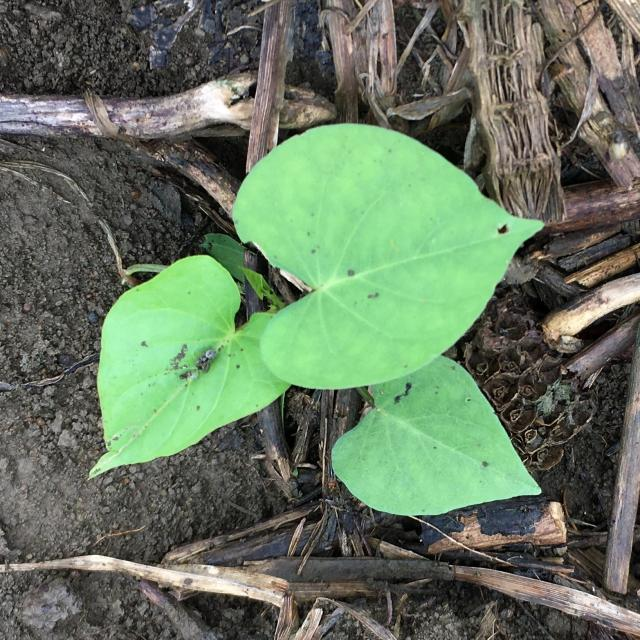MorningGlory: (88, 124, 544, 516)
